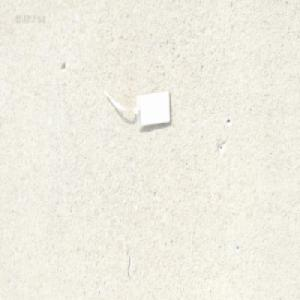LuggageTag: (103, 72, 174, 129)
